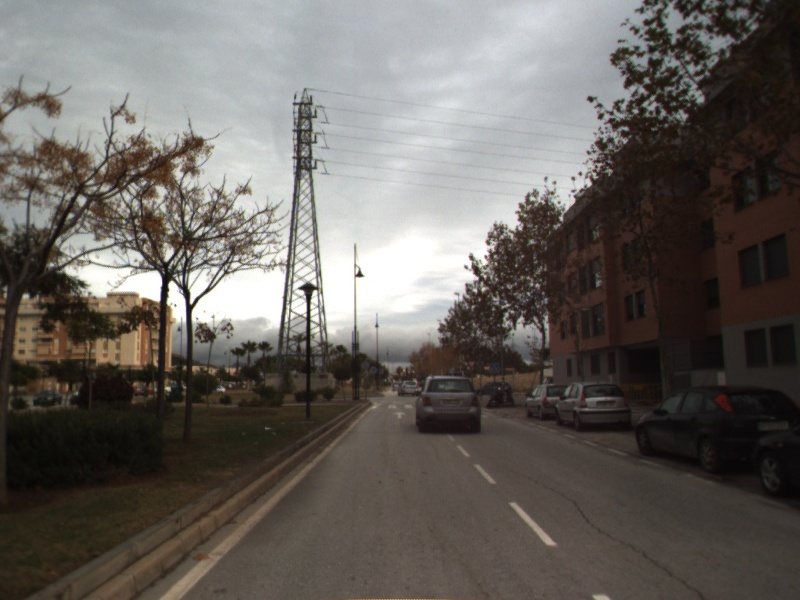STRAIGHT: (392, 410, 408, 421)
